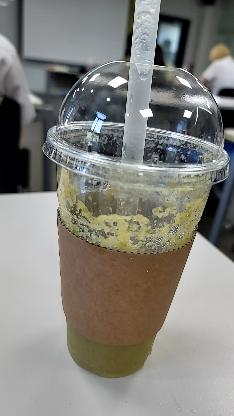Plastic Cup: (38, 65, 228, 388), (42, 55, 234, 185)
